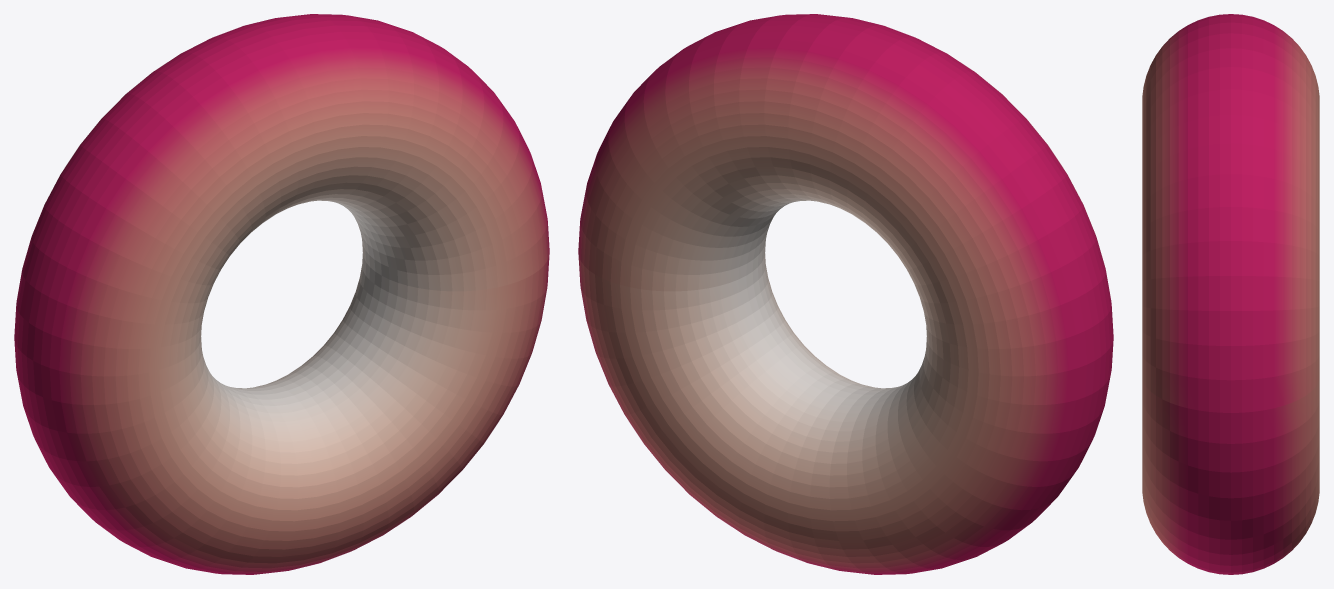
The picture shows the model from 3 angles, left to right: view 1: azimuth 30°, elevation 25°; view 2: azimuth 150°, elevation 25°; view 3: azimuth 270°, elevation 25°; orthographic projection. The views are drawn at different scales.
Visible parts, largest first — view 1: world; view 2: world; view 3: world.
Boxes of the visible parts, left/top/right/bottom form: world: left=14, top=14, right=549, bottom=574; world: left=578, top=14, right=1113, bottom=574; world: left=1142, top=14, right=1319, bottom=574.
Bounding box in the file's own units: 27.33 × 27.28 × 8.65.
